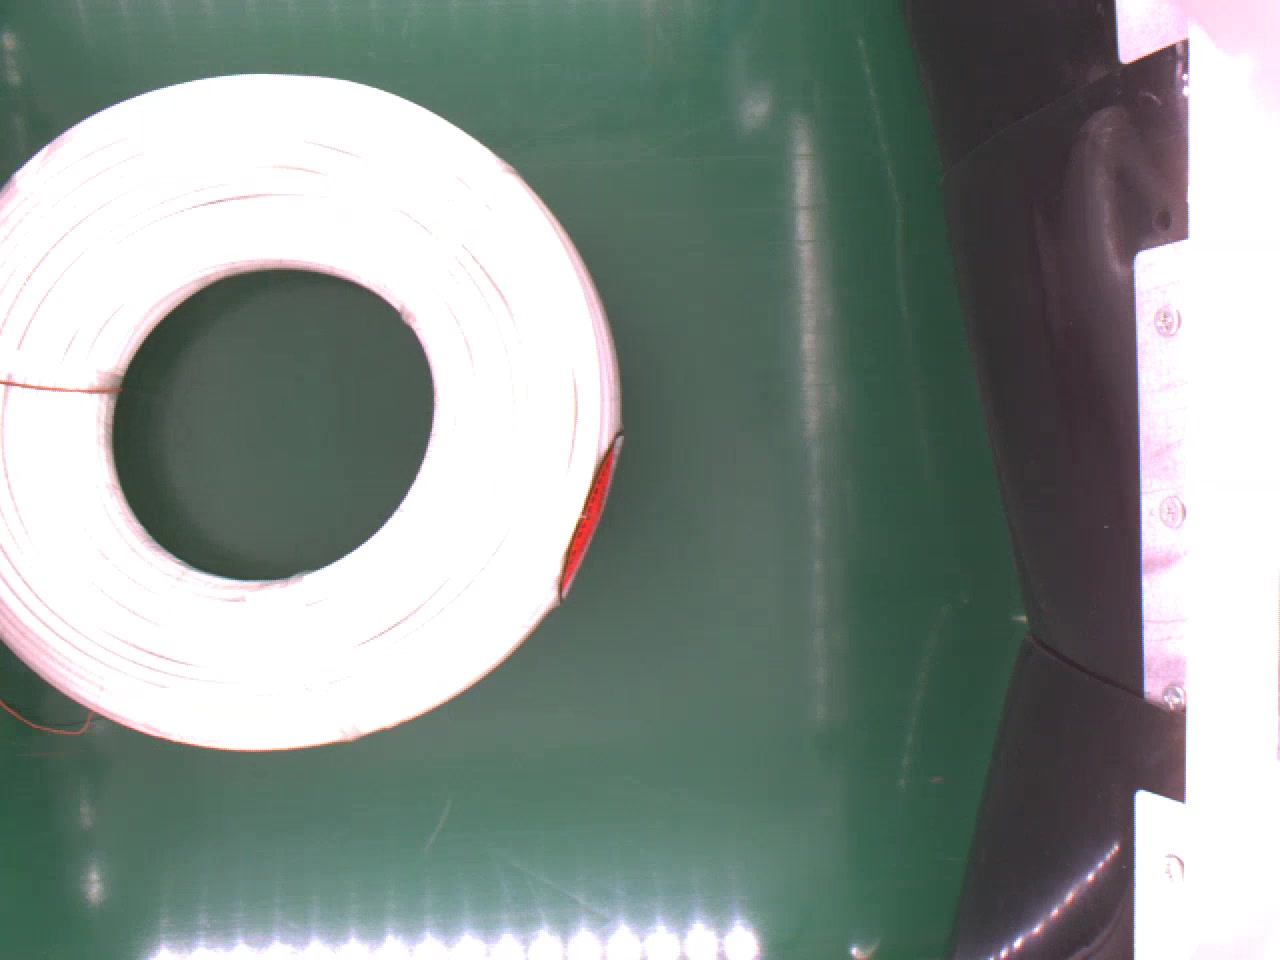white: (0, 71, 621, 743)
